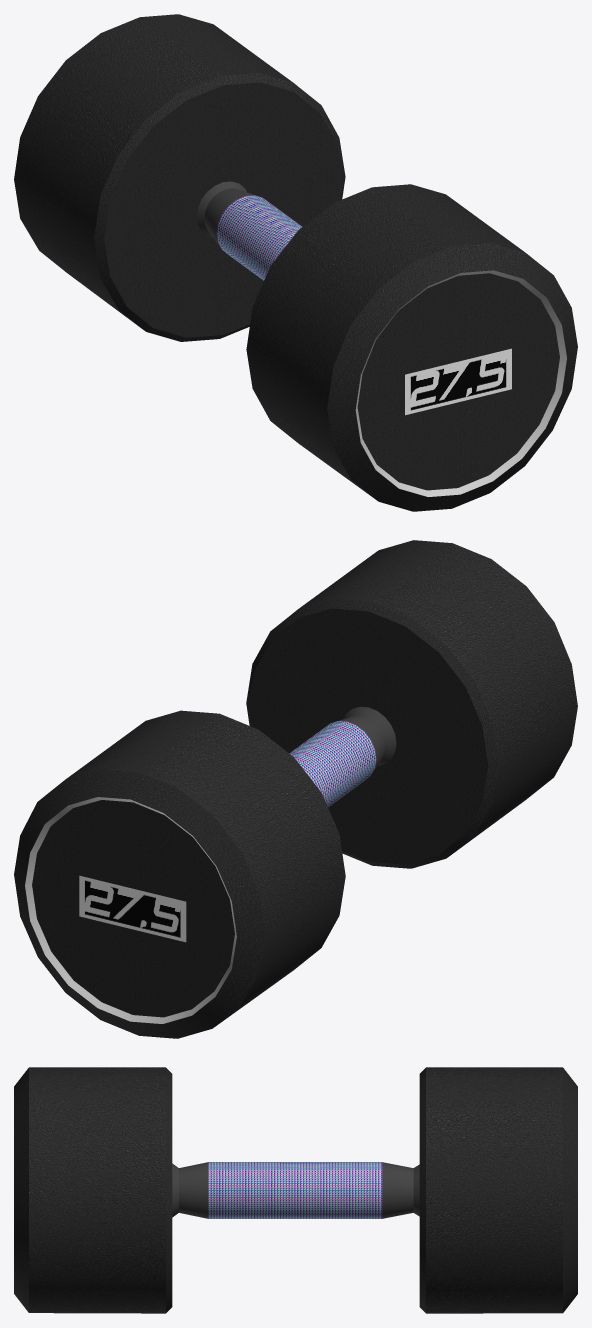
3 views of the same model, one above another, from view 1: azimuth 30°, elevation 25°; view 2: azimuth 150°, elevation 25°; view 3: azimuth 270°, elevation 25° (orthographic). The views are drawn at different scales.
Parts seen in each view (by area): view 1: 27.5; view 2: 27.5; view 3: 27.5.
Boxes of the visible parts, x1,y1,x2,y2 form: 27.5: (14, 14, 577, 511); 27.5: (14, 540, 577, 1038); 27.5: (14, 1067, 577, 1313).
Size of the model in its own units: 0.1278 by 0.2905 by 0.1278.
